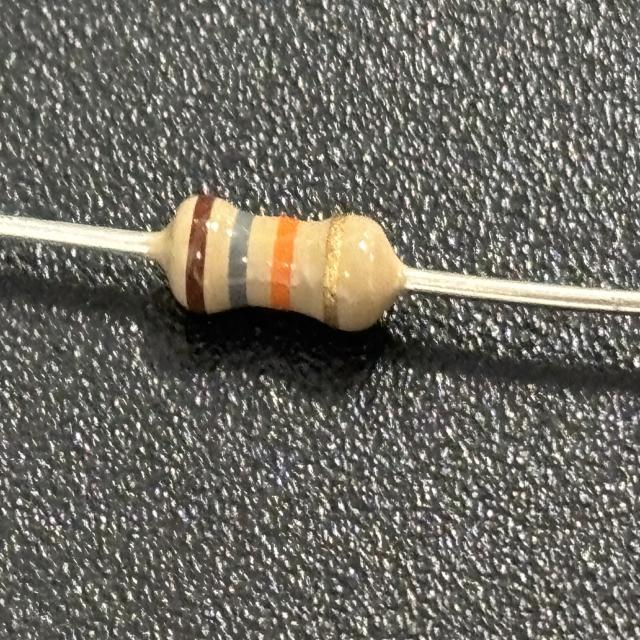resistor: (170, 184, 389, 340)
